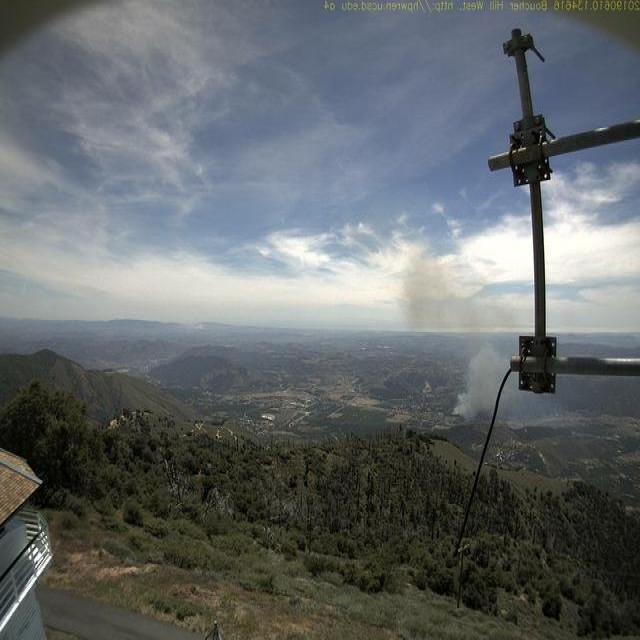Smoke: (398, 234, 527, 424)
